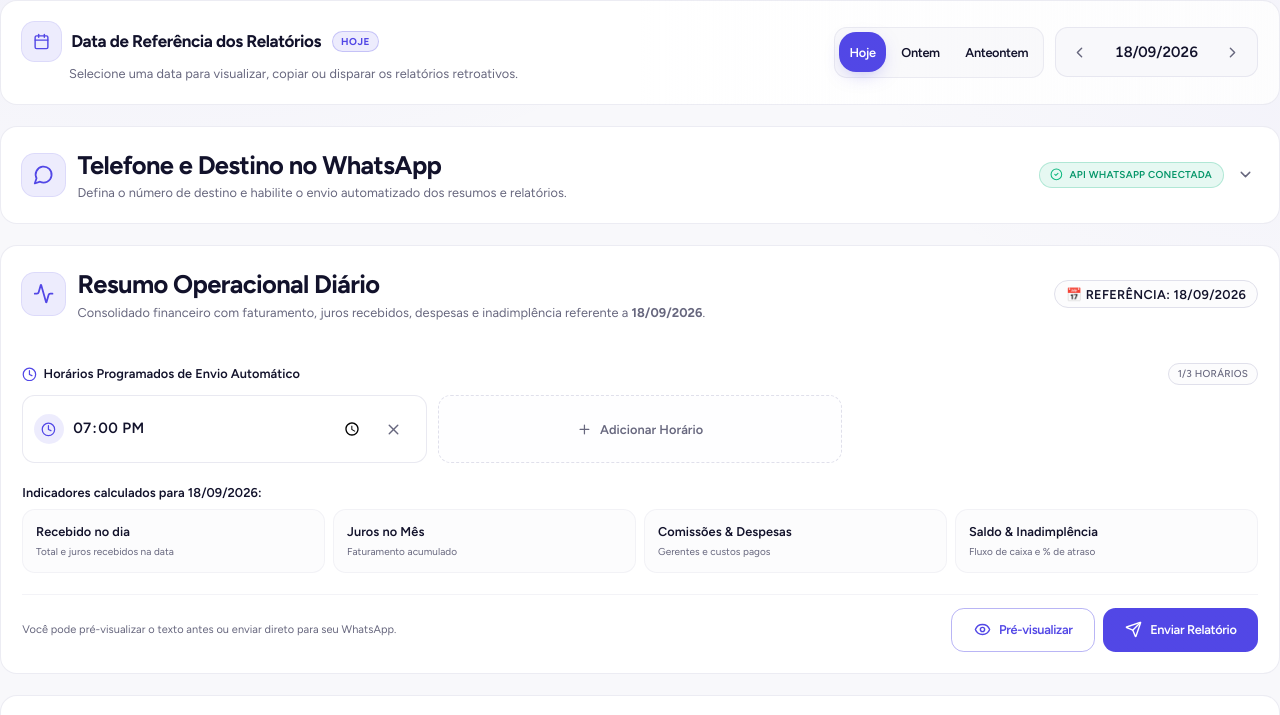
it: WhatsappReportCard — Envio de Relatórios e Resumo Operacional pelo WhatsApp › renderiza todos os cards: Telefone (recolhido por padrão), Resumo Operacional e Relatório de Cobranças
The image size is (1280, 715).
Expected: the heading "Resumo Operacional Diário" is shown, [78, 269, 379, 299]
Expected: the text "Ativar envio automático no WhatsApp" is not shown
// Ao clicar no cabeçalho do card de telefone, ele expande
What coordinates should you click on to do the following:
click the heading "Telefone e Destino no WhatsApp"
I would click on:
 (259, 165)
Its box is [78, 150, 441, 180].
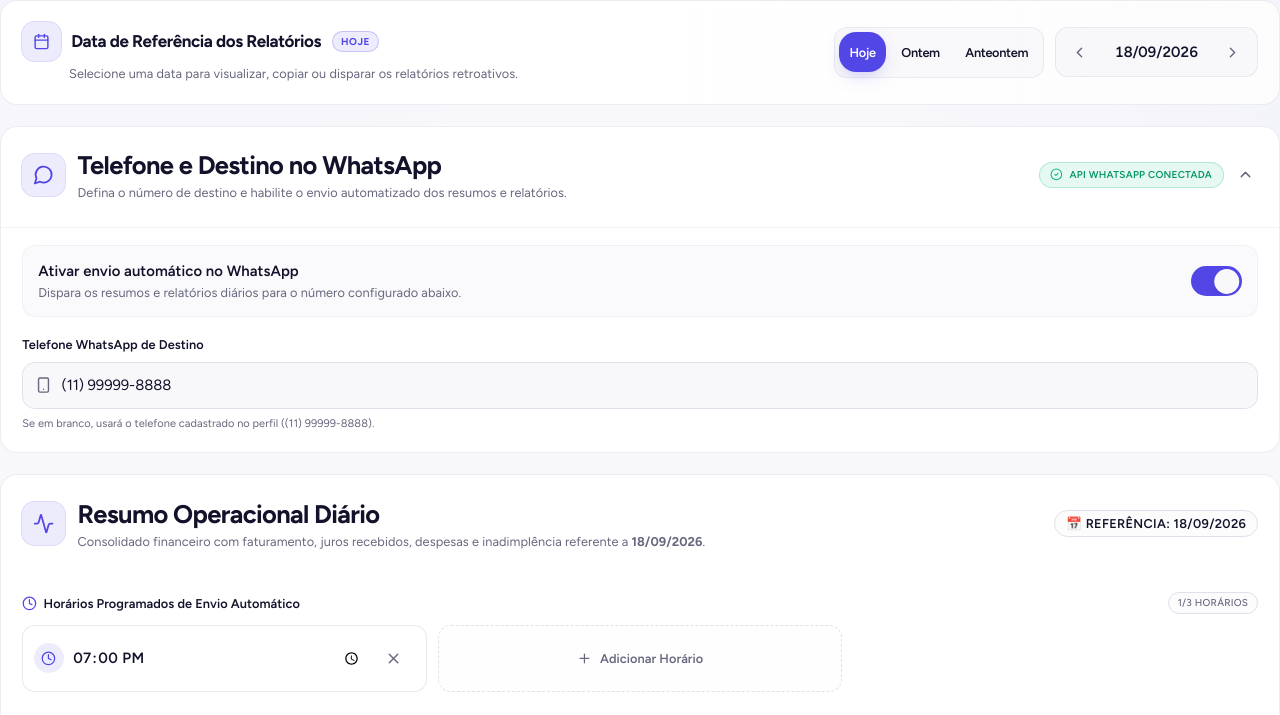
Expected: the heading "Data de Referência dos Relatórios" is shown, [71, 29, 321, 54]
Now the text "Ativar envio automático no WhatsApp" is shown, box [38, 262, 299, 280]
